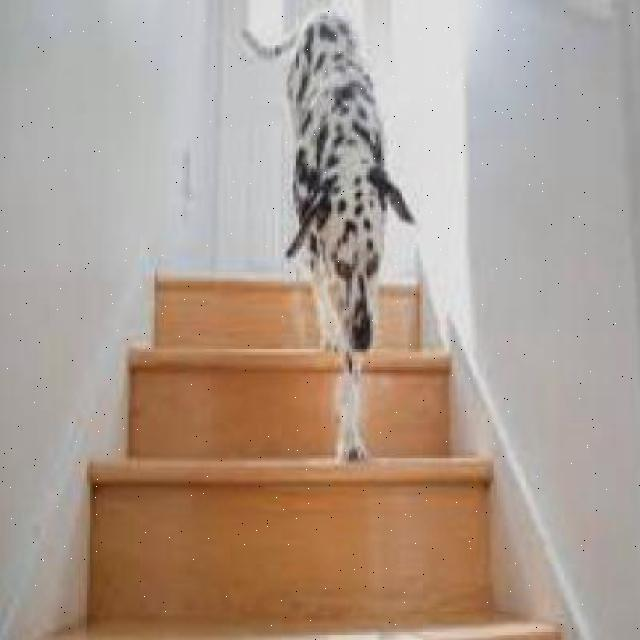stair: (72, 344, 497, 609)
